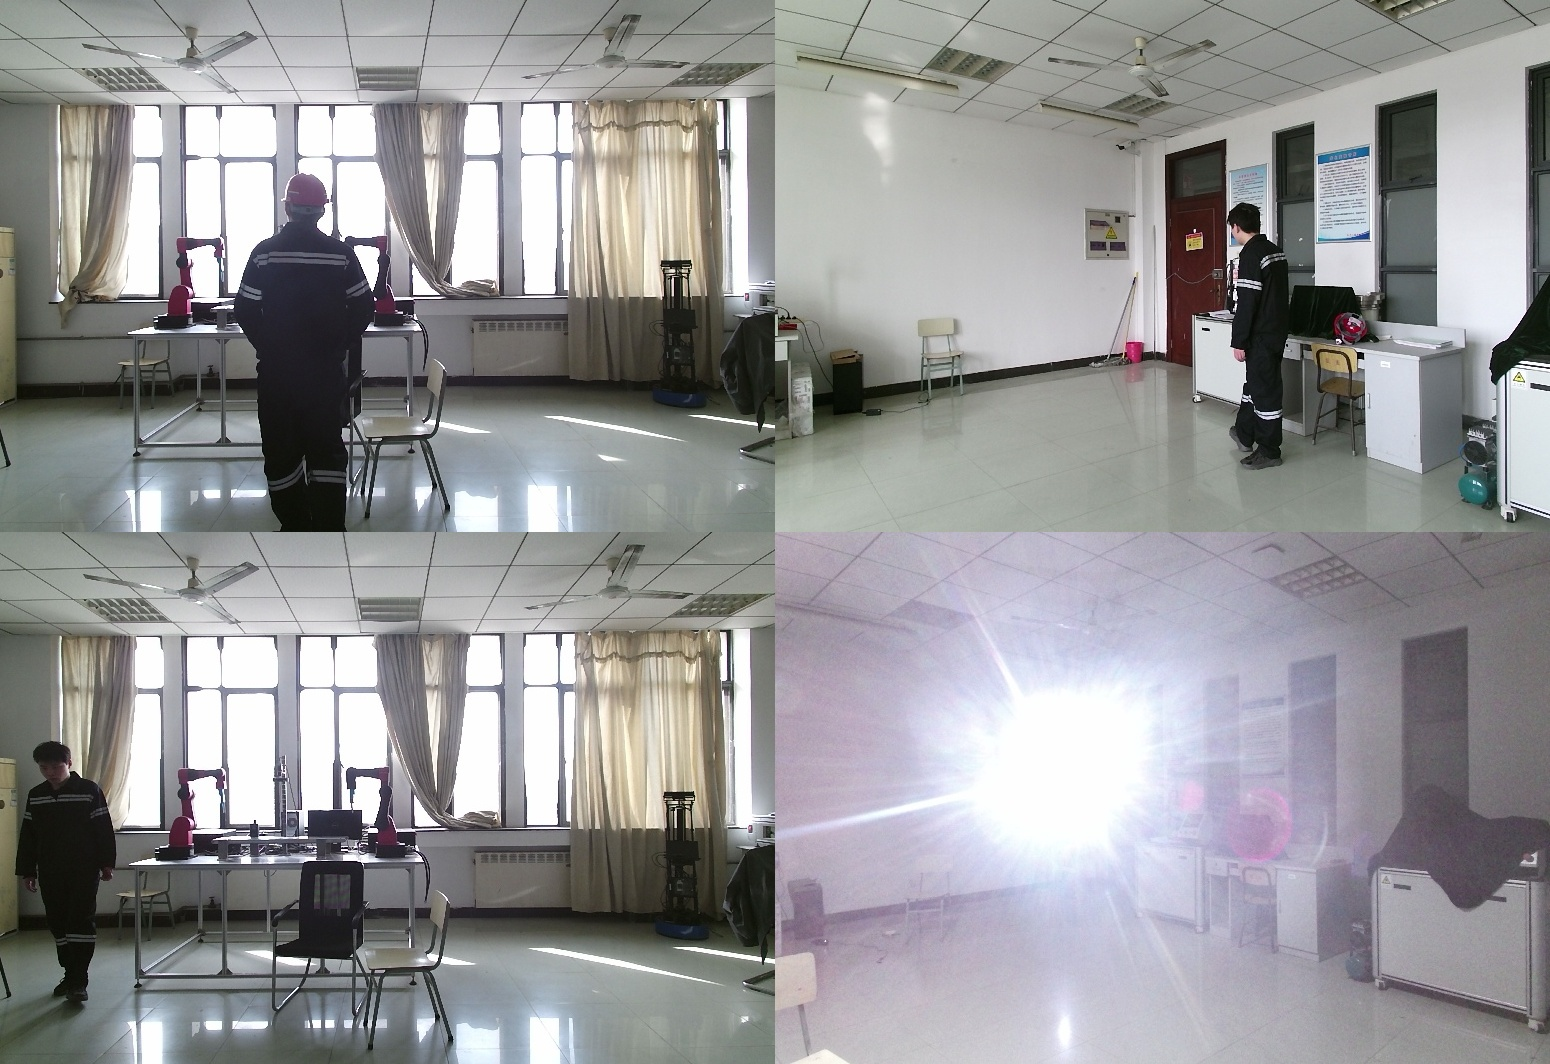person: (236, 176, 377, 532), (16, 741, 120, 997), (1231, 202, 1308, 470), (1038, 768, 1087, 901)
